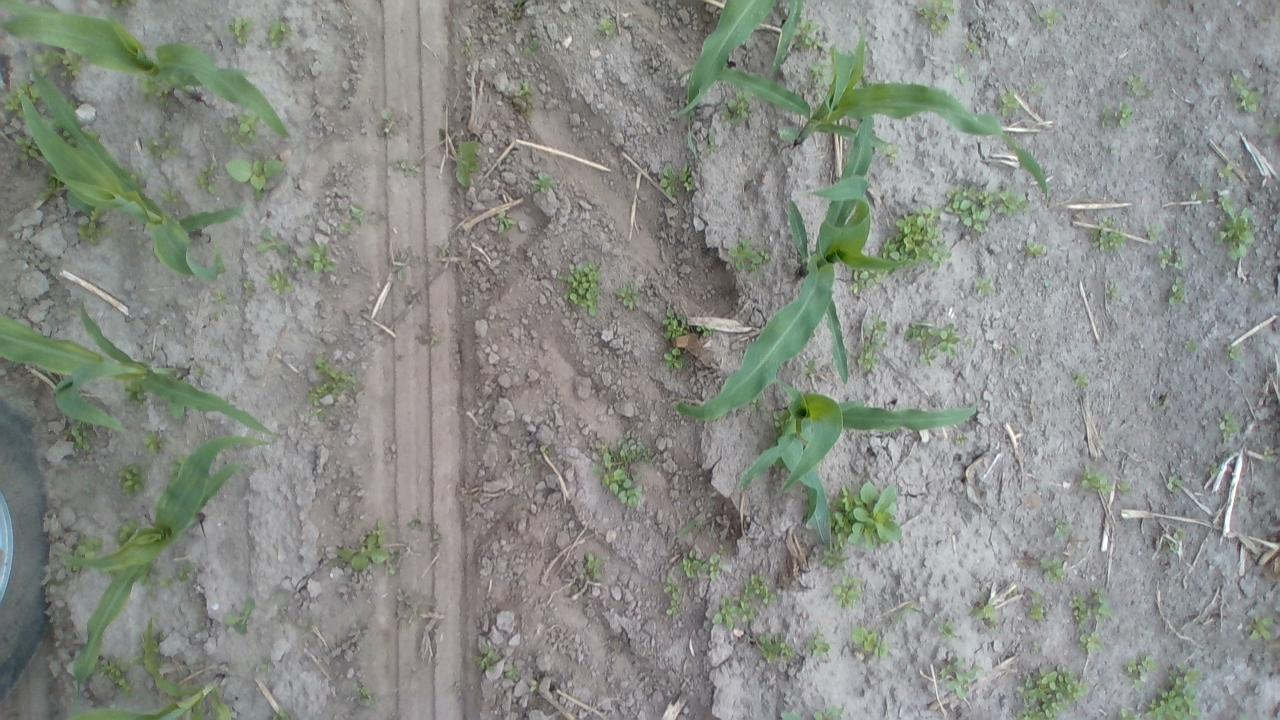Maize: (676, 114, 910, 420), (720, 36, 1050, 198), (22, 59, 247, 286), (60, 430, 244, 698), (1, 0, 294, 142), (738, 377, 978, 546), (0, 300, 280, 440), (64, 618, 232, 720), (679, 0, 770, 115), (770, 3, 800, 80)
Weeds: (1115, 666, 1208, 720), (1010, 659, 1090, 720), (598, 433, 658, 511), (946, 182, 1034, 234), (874, 206, 952, 261), (830, 485, 900, 544), (334, 520, 391, 572), (306, 352, 351, 410), (1212, 204, 1254, 265), (224, 154, 286, 194), (904, 322, 959, 366), (939, 652, 985, 700), (561, 260, 601, 312), (1158, 243, 1186, 311), (858, 318, 891, 374), (658, 162, 696, 206), (914, 0, 960, 36), (850, 625, 890, 666), (710, 598, 761, 630), (451, 138, 483, 188), (135, 128, 183, 161), (740, 572, 781, 610), (757, 632, 800, 666), (218, 596, 254, 636), (1090, 218, 1129, 254), (721, 92, 758, 127), (830, 578, 870, 610), (809, 630, 839, 672), (77, 208, 111, 244), (100, 656, 136, 690), (1123, 652, 1156, 688), (308, 239, 340, 276), (730, 241, 765, 274), (1247, 609, 1279, 644), (664, 576, 688, 620), (1078, 464, 1112, 495), (218, 114, 260, 139), (254, 226, 290, 255), (116, 464, 148, 496), (1232, 76, 1260, 112), (51, 50, 82, 82), (582, 553, 612, 586), (1090, 588, 1120, 621), (1, 85, 38, 110), (1215, 405, 1241, 440), (267, 268, 297, 298), (157, 564, 189, 592), (229, 12, 257, 44), (684, 558, 726, 579), (999, 87, 1026, 119), (1100, 106, 1136, 130), (849, 272, 890, 293), (1038, 555, 1072, 580), (612, 280, 642, 308), (337, 206, 362, 238), (264, 22, 292, 50), (796, 20, 823, 48), (528, 173, 560, 196), (1069, 592, 1090, 626), (662, 305, 682, 339), (378, 104, 400, 134), (1124, 73, 1148, 100), (194, 167, 219, 192), (664, 348, 689, 373), (514, 78, 533, 110), (142, 430, 166, 455), (1082, 631, 1106, 656), (1164, 464, 1186, 491), (805, 62, 829, 86), (126, 380, 148, 406), (72, 540, 100, 560), (820, 546, 844, 568), (41, 176, 65, 198), (519, 35, 543, 57), (970, 601, 1000, 618), (30, 50, 51, 74), (1028, 593, 1048, 618), (1023, 242, 1049, 261), (1038, 6, 1064, 25), (938, 620, 964, 639), (353, 686, 380, 704), (596, 14, 618, 36), (18, 138, 38, 162), (1188, 188, 1222, 202), (207, 290, 233, 308), (70, 429, 92, 450), (241, 274, 261, 296), (1051, 516, 1073, 536), (459, 38, 478, 61), (814, 707, 847, 720), (482, 646, 499, 670), (396, 160, 420, 176), (952, 66, 971, 86), (496, 212, 516, 230), (883, 146, 903, 164), (158, 184, 178, 202), (1224, 344, 1246, 360), (1072, 369, 1090, 388), (1146, 223, 1167, 239), (1250, 288, 1268, 306), (1117, 477, 1134, 496), (694, 326, 714, 342), (254, 660, 276, 674), (390, 267, 408, 284), (114, 523, 132, 540), (964, 38, 983, 54), (804, 355, 818, 376), (106, 0, 138, 9), (506, 666, 524, 682), (1180, 335, 1198, 351), (780, 711, 811, 720), (974, 279, 995, 292), (1216, 166, 1235, 180), (1104, 282, 1118, 300), (1260, 445, 1277, 459), (954, 435, 970, 448), (1030, 81, 1044, 95), (1173, 529, 1188, 538), (1207, 461, 1218, 473), (271, 712, 286, 720), (289, 258, 303, 266), (208, 312, 220, 320)
